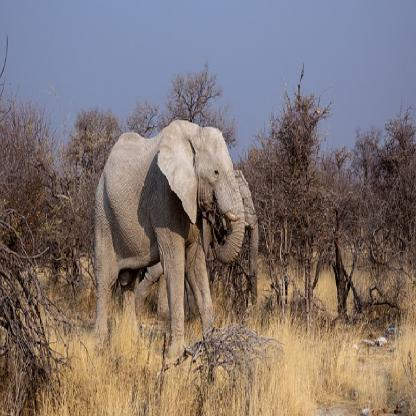elephant: (92, 126, 242, 380), (224, 170, 263, 322)
